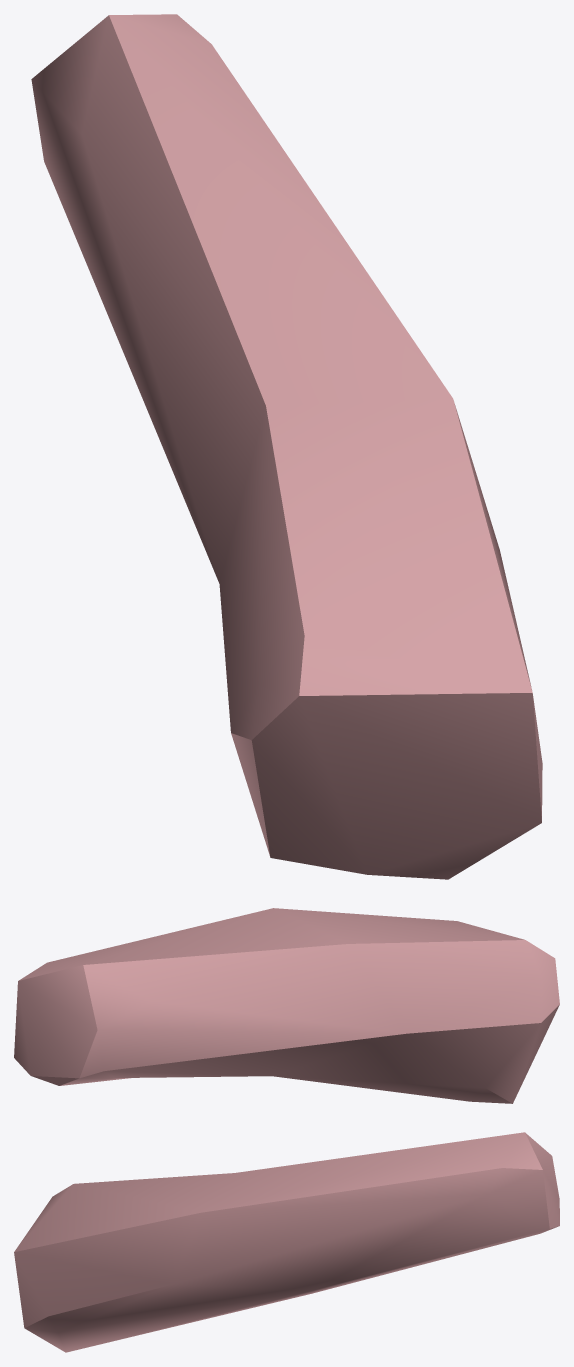
Rendered from fma68223_fj2464.glb.
3 views of the same model, one above another, from view 1: azimuth 30°, elevation 25°; view 2: azimuth 150°, elevation 25°; view 3: azimuth 270°, elevation 25° (orthographic). The views are drawn at different scales.
Visible parts, largest first — view 1: FMA68223_FJ2464; view 2: FMA68223_FJ2464; view 3: FMA68223_FJ2464.
Part boxes in pixels (x1=…): FMA68223_FJ2464: x1=31, y1=14, x2=542, y2=879; FMA68223_FJ2464: x1=14, y1=908, x2=559, y2=1103; FMA68223_FJ2464: x1=14, y1=1132, x2=559, y2=1352.
Bounding box in the file's own units: 0.00345 × 0.00403 × 0.00799.
